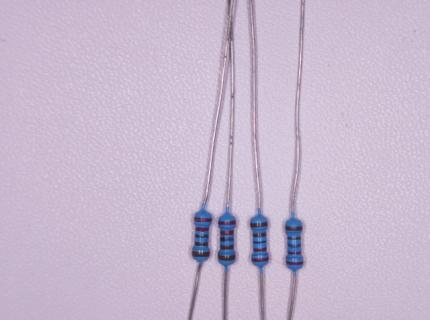Black band: (220, 236, 234, 242), (194, 234, 209, 239), (287, 243, 301, 248), (253, 240, 267, 244)
Brown band: (192, 251, 210, 258), (250, 222, 268, 228), (285, 225, 303, 231), (218, 255, 235, 261), (252, 232, 267, 238), (194, 242, 208, 247), (220, 245, 234, 250), (287, 236, 301, 240)
Red band: (194, 216, 212, 223), (251, 258, 269, 263), (220, 230, 234, 236), (253, 247, 267, 253), (218, 221, 236, 225), (286, 261, 304, 265), (195, 227, 209, 232), (288, 251, 302, 255)
